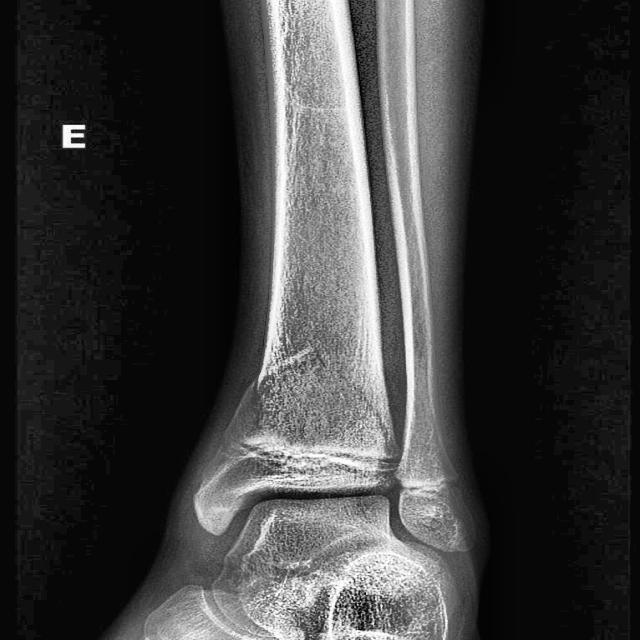fracture: (314, 356, 392, 454), (249, 348, 314, 396)
